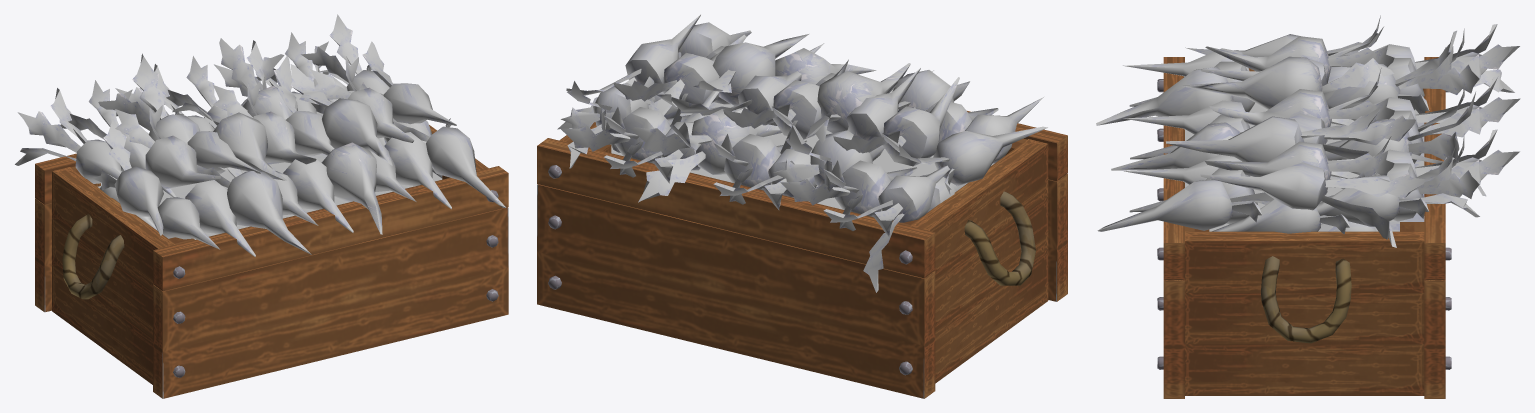
The model's file is FarmCrate_Radish.fbx.
3 views of the same model, side by side, from view 1: azimuth 30°, elevation 25°; view 2: azimuth 150°, elevation 25°; view 3: azimuth 270°, elevation 25° (orthographic). The views are drawn at different scales.
Parts seen in each view (by area): view 1: FarmCrate_Radish; view 2: FarmCrate_Radish; view 3: FarmCrate_Radish.
Part boxes in pixels (box(x1,y1,x2,y2)): FarmCrate_Radish: box(15, 14, 508, 398); FarmCrate_Radish: box(537, 14, 1067, 398); FarmCrate_Radish: box(1096, 15, 1520, 398).
Bounding box in the file's own units: 71.38 × 37.91 × 59.79.
